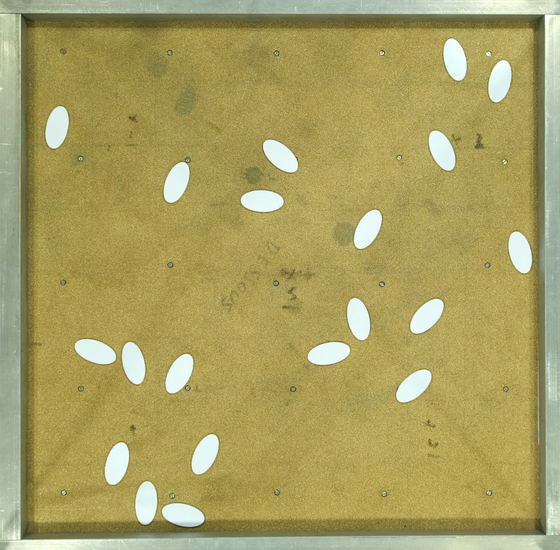pallet: (152, 159, 198, 205), (306, 333, 352, 379), (337, 296, 383, 342), (403, 291, 449, 337), (494, 229, 540, 275), (346, 205, 392, 251), (238, 177, 284, 223), (475, 57, 521, 103), (427, 37, 473, 83), (418, 127, 464, 173), (258, 133, 304, 179), (33, 104, 79, 150), (162, 490, 208, 536), (89, 439, 135, 485), (179, 430, 225, 476), (70, 329, 116, 375), (159, 351, 205, 397), (393, 362, 439, 408), (114, 336, 150, 392), (131, 475, 158, 527)
